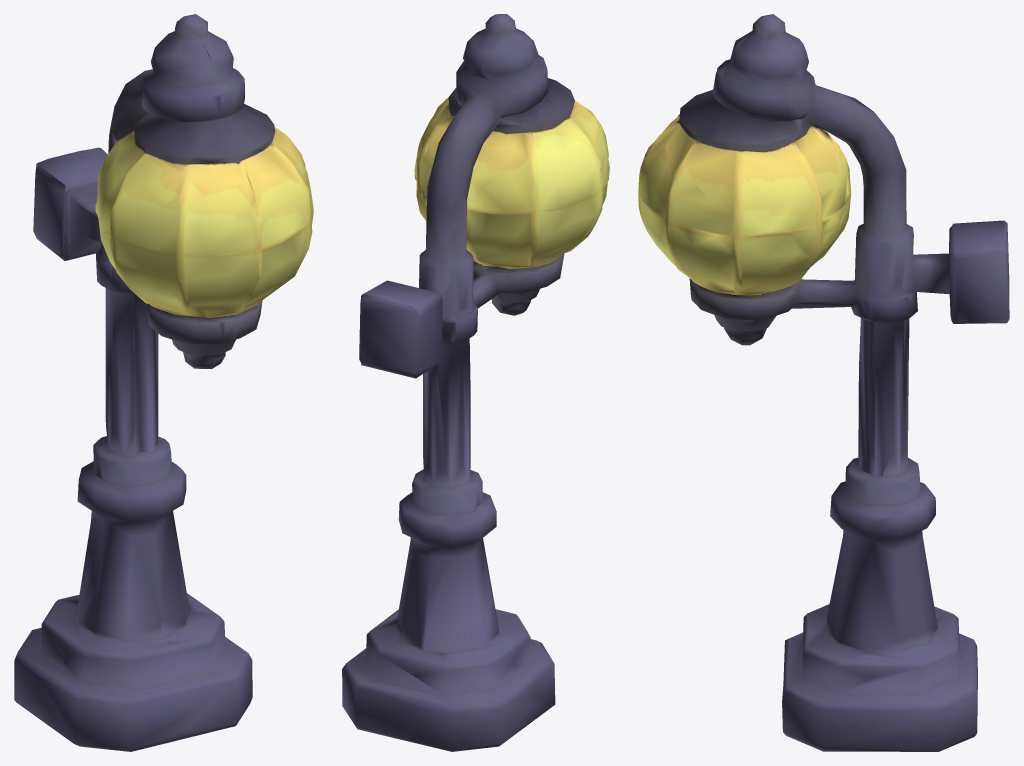
The model's file is M-5_01_lamp.glb.
3 renders of one model, left to right at view 1: azimuth 30°, elevation 25°; view 2: azimuth 150°, elevation 25°; view 3: azimuth 270°, elevation 25°, orthographic. The views are drawn at different scales.
Parts seen in each view (by area): view 1: lamp; view 2: lamp; view 3: lamp.
Part boxes in pixels (<box>): lamp: <box>14,14,313,751</box>; lamp: <box>342,14,609,751</box>; lamp: <box>638,14,1009,751</box>.
Bounding box in the file's own units: 1.45 × 5.21 × 2.52.
Materials: 2 (2 with a texture image).
